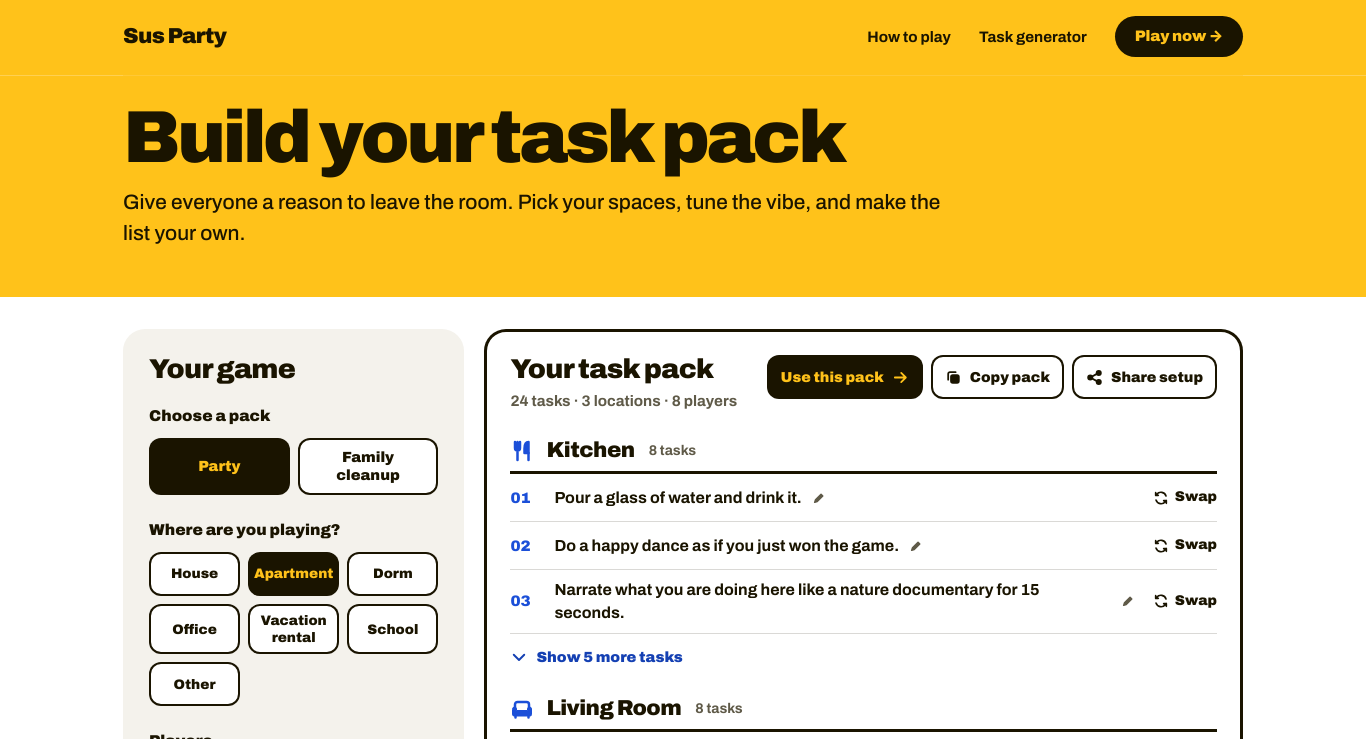
Test case: keeps edits when the player count changes
Click the button with aria-label "Edit task" at (678, 498), box top-left (554, 484), bottom-right (1135, 511)
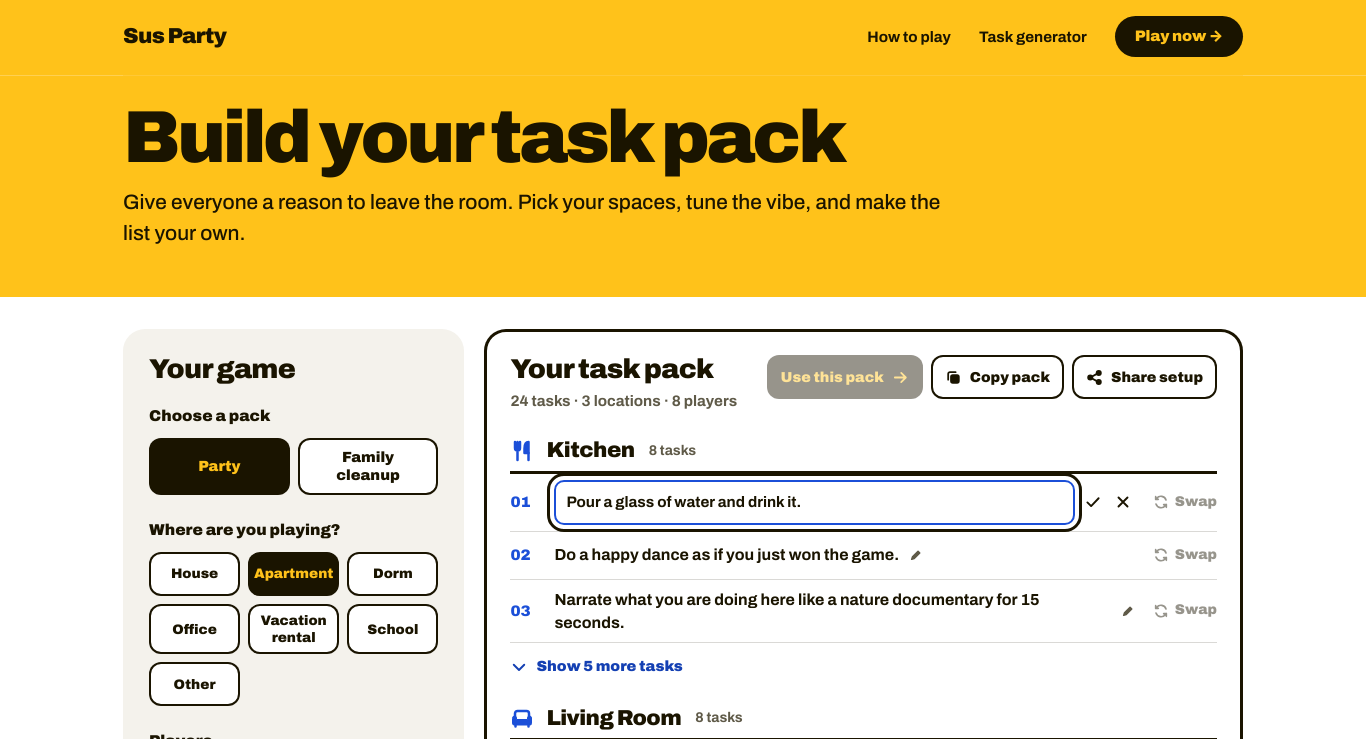
Replace the text in the field named "Edit task" with "My custom mission" at (815, 502), box top-left (554, 480), bottom-right (1075, 525)
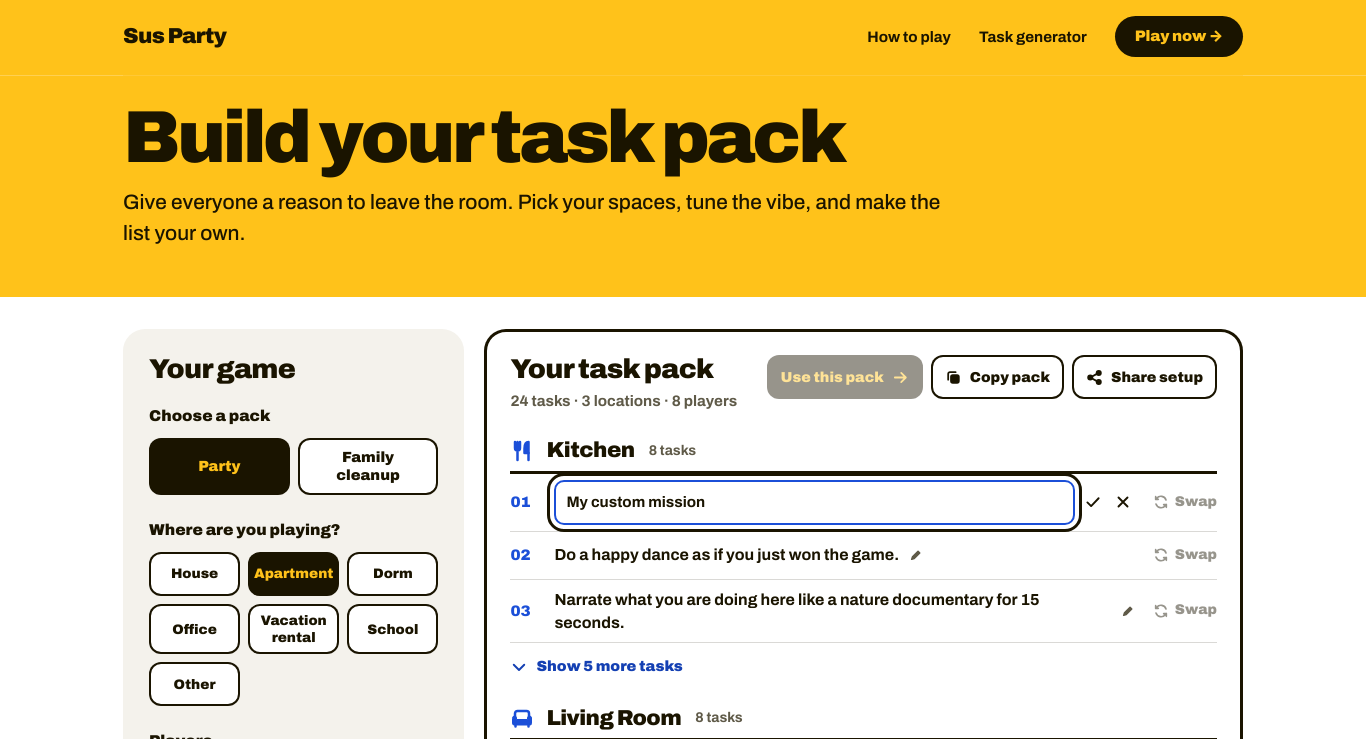
Press Enter in the field named "Edit task", box top-left (554, 480), bottom-right (1075, 525)
(page scrolled)
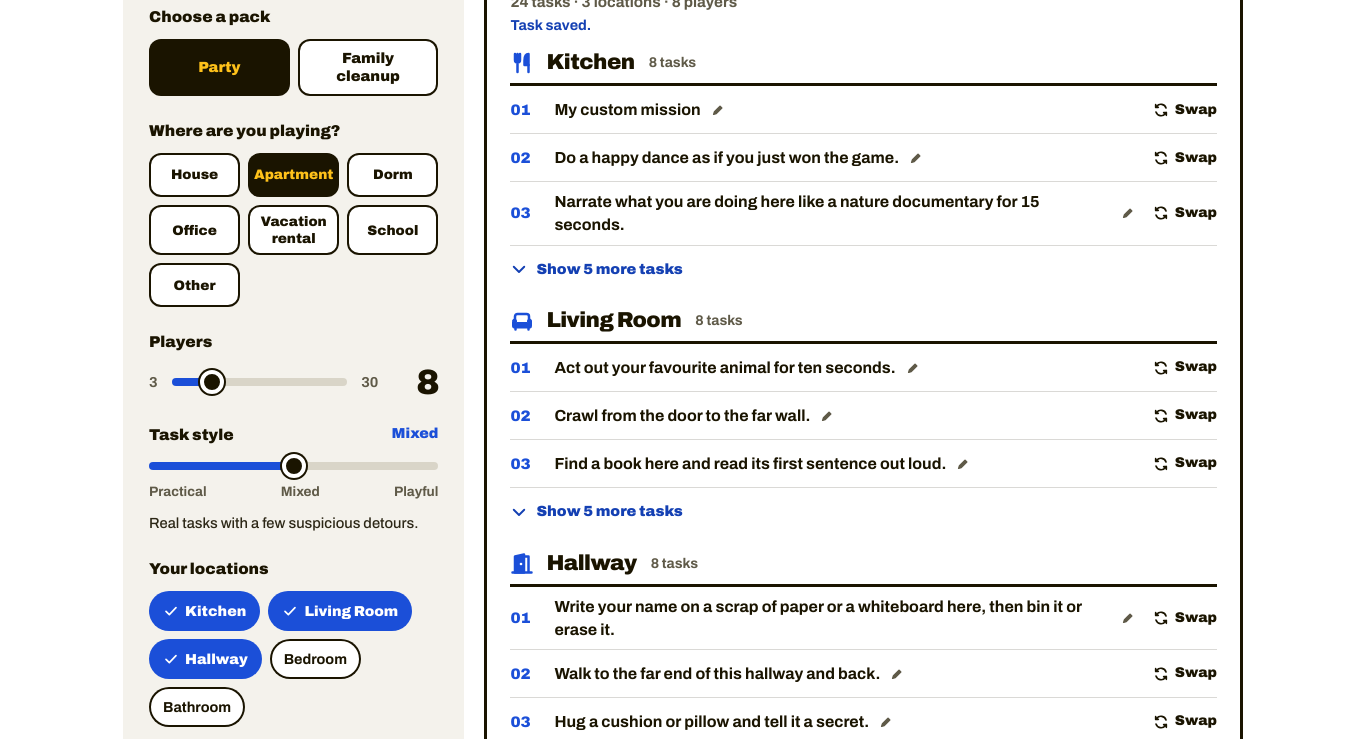
Set the slider labelled "Players" to "15" at (251, 382), box top-left (172, 378), bottom-right (347, 386)
(page scrolled)
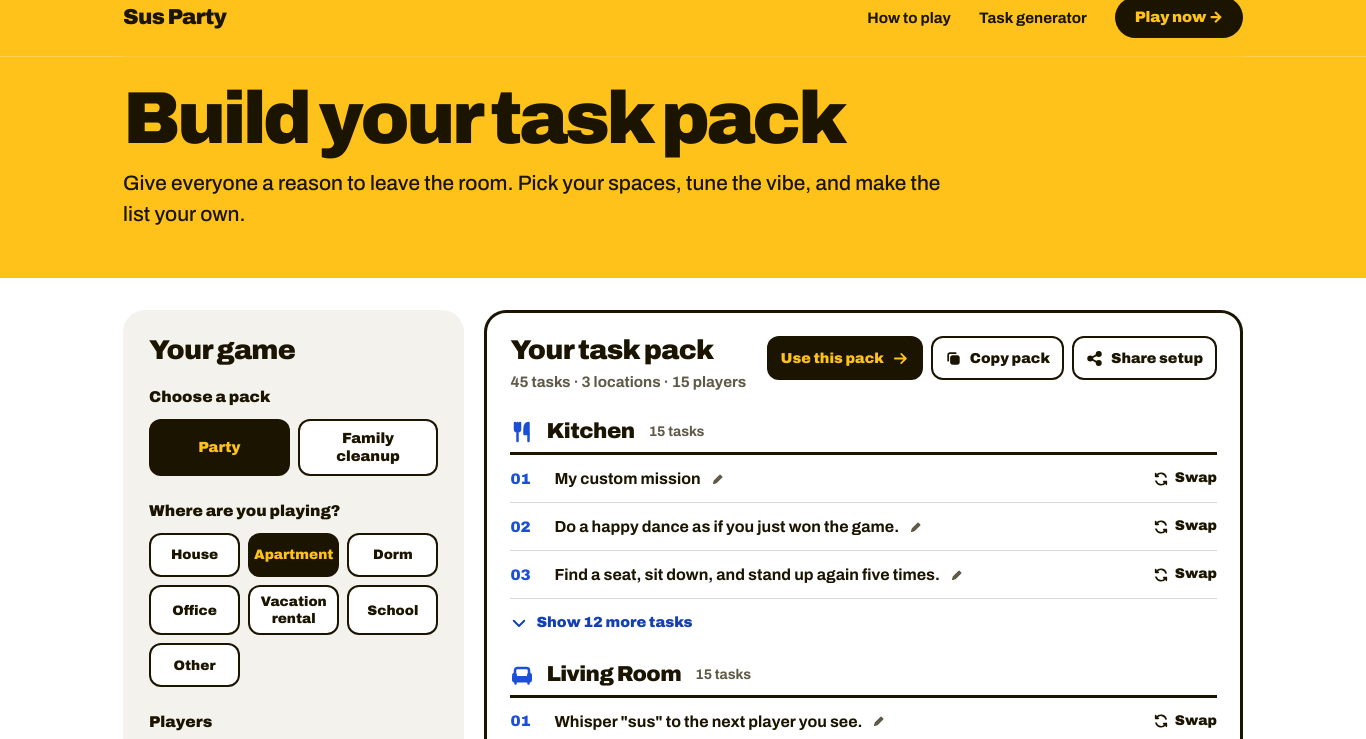
Expected: the text "My custom mission" is shown, top-left (554, 467), bottom-right (701, 490)
Expected: the text "45 tasks · 3 locations · 15 players" is shown, top-left (510, 370), bottom-right (746, 394)
